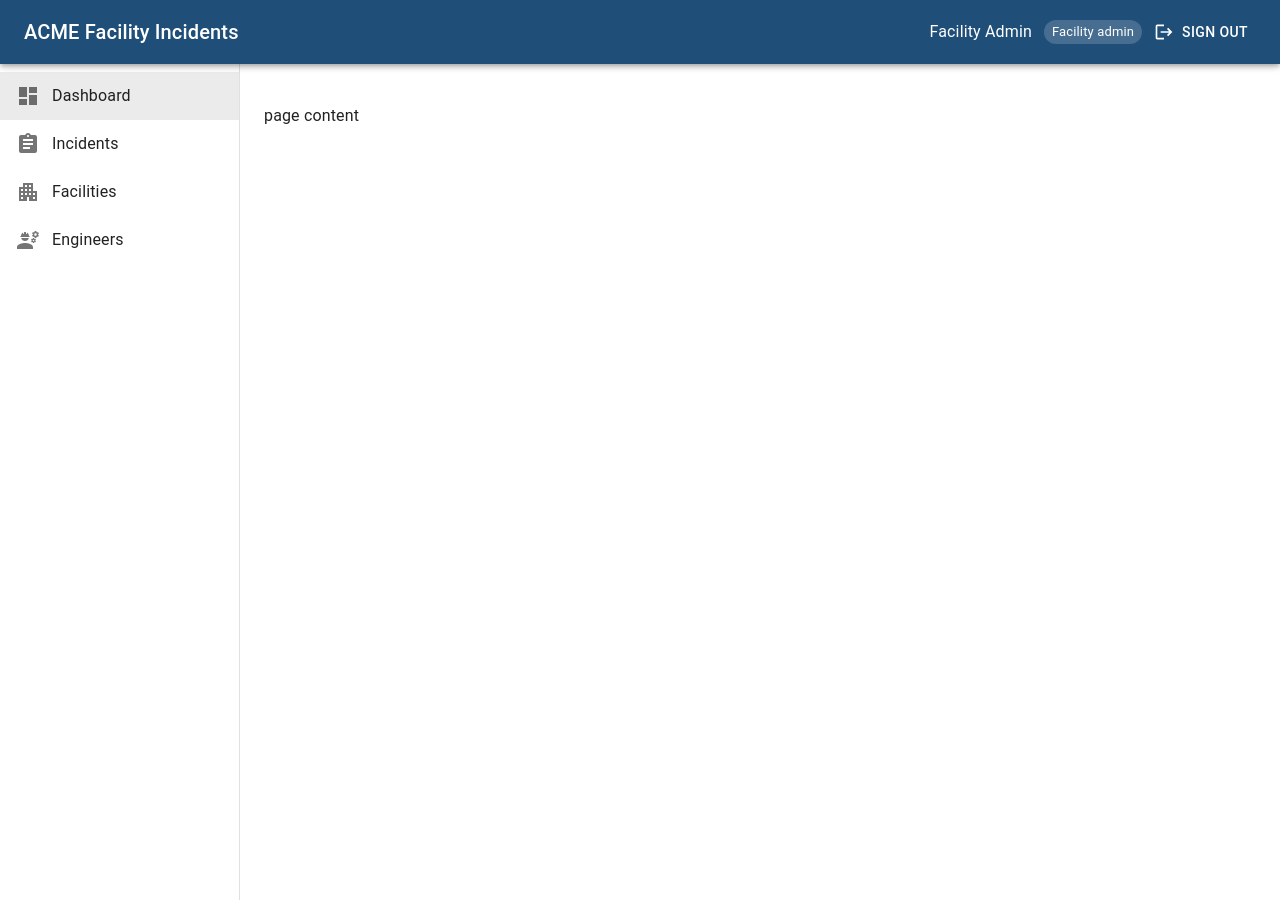
Test case: AppLayout › shows admin-only pages to an admin and navigates to them
The width and height of the screenshot is (1280, 900).
Click the link "Facilities" at x=66, y=192, box [16,180,117,204]
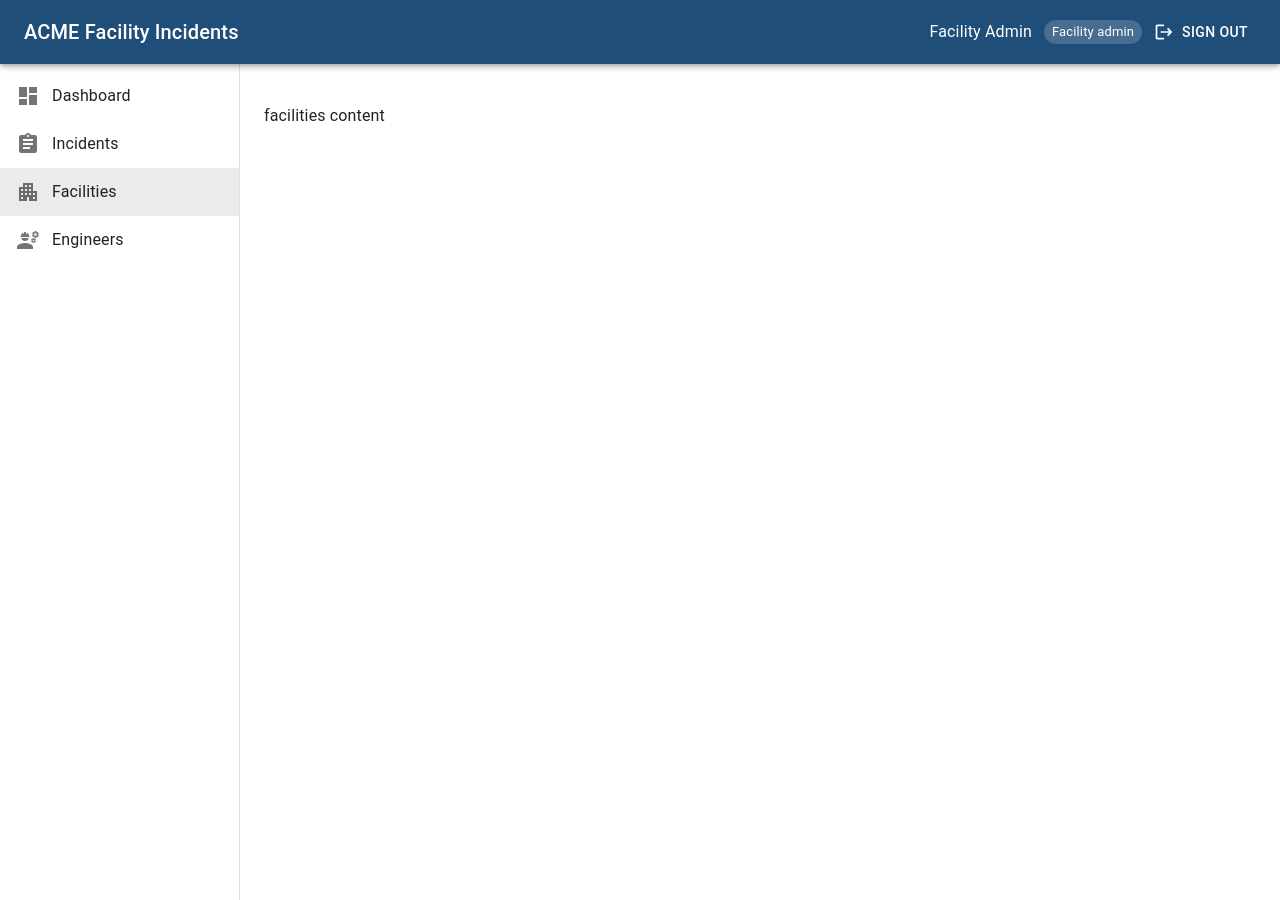
Expected: the text "facilities content" is shown, [264,106,385,125]
